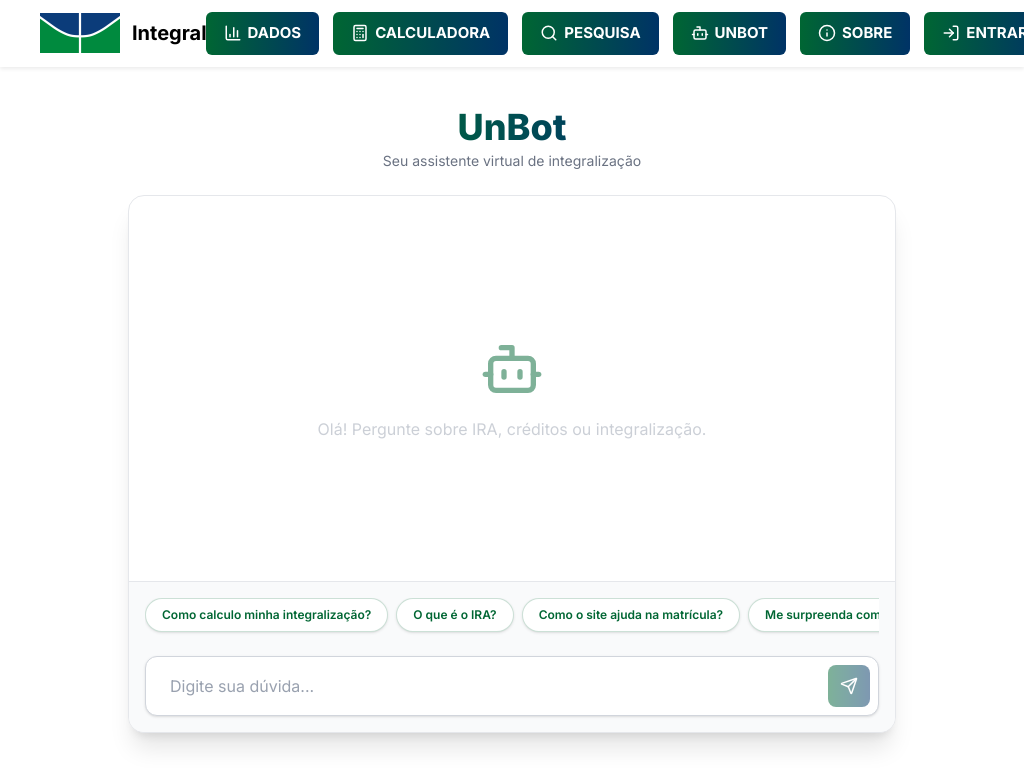
Scenario: Página UnBot (Chatbot) › deve exibir mensagem de erro se a API falhar
In the field with placeholder "Digite sua dúvida...": (487, 686) [154, 666, 820, 706], type "Teste Erro"
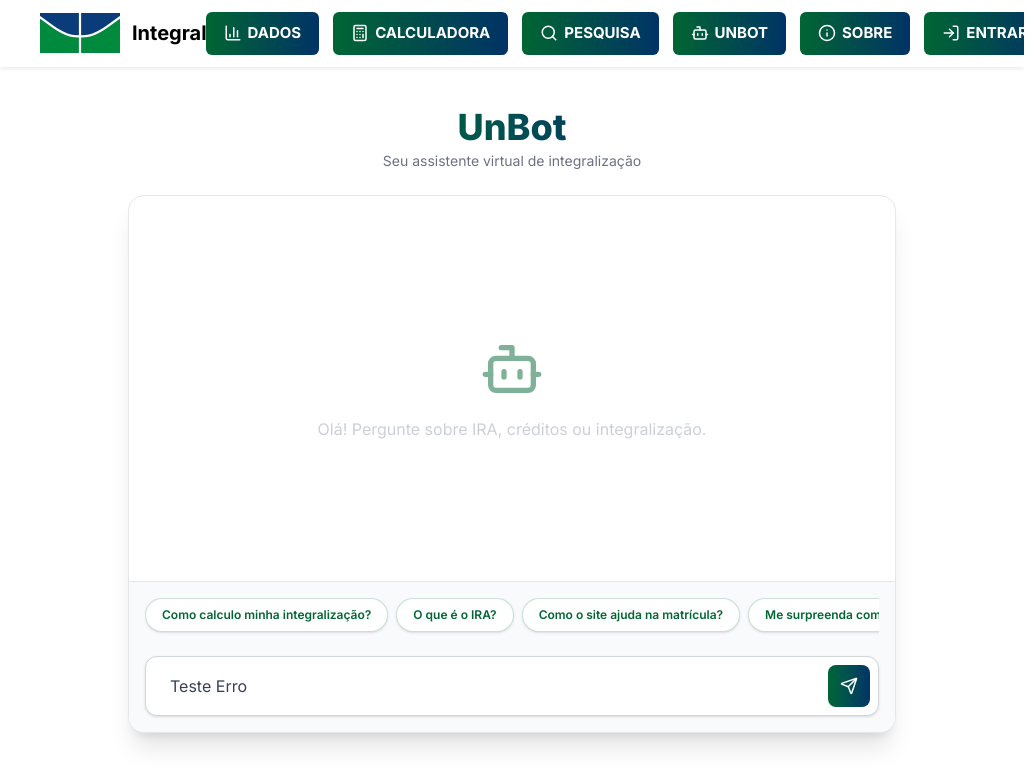
Click the 5th button: (849, 686) [828, 665, 870, 707]
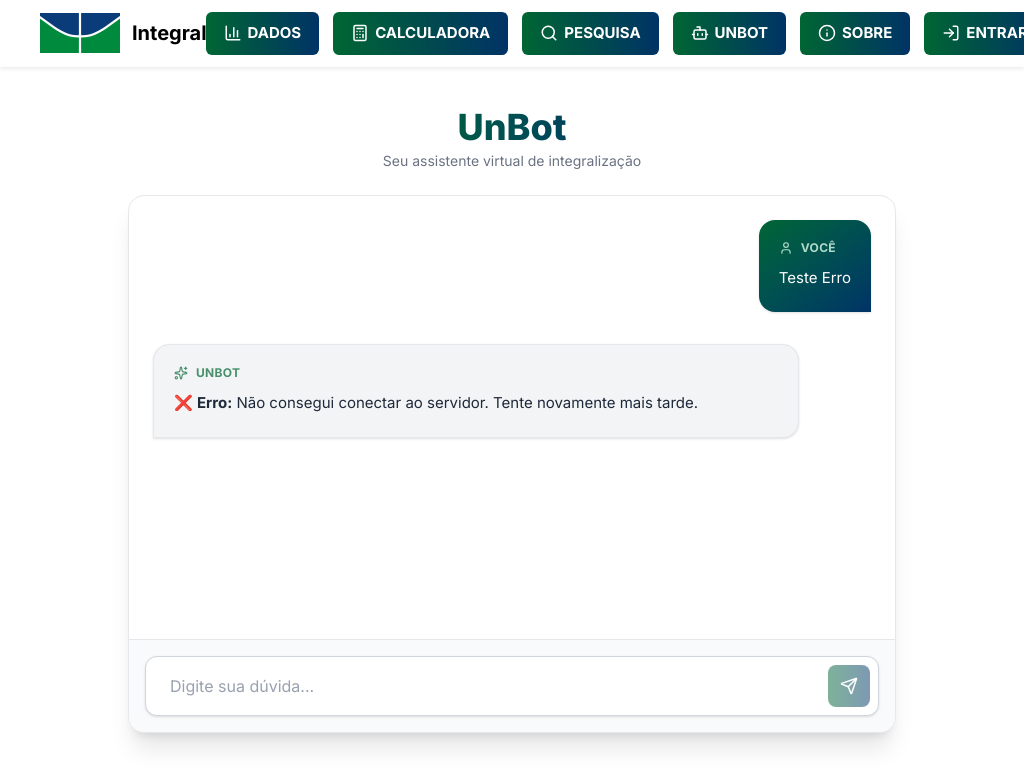
Expected: the text "Não consegui conectar" is shown, [232, 393, 698, 412]
